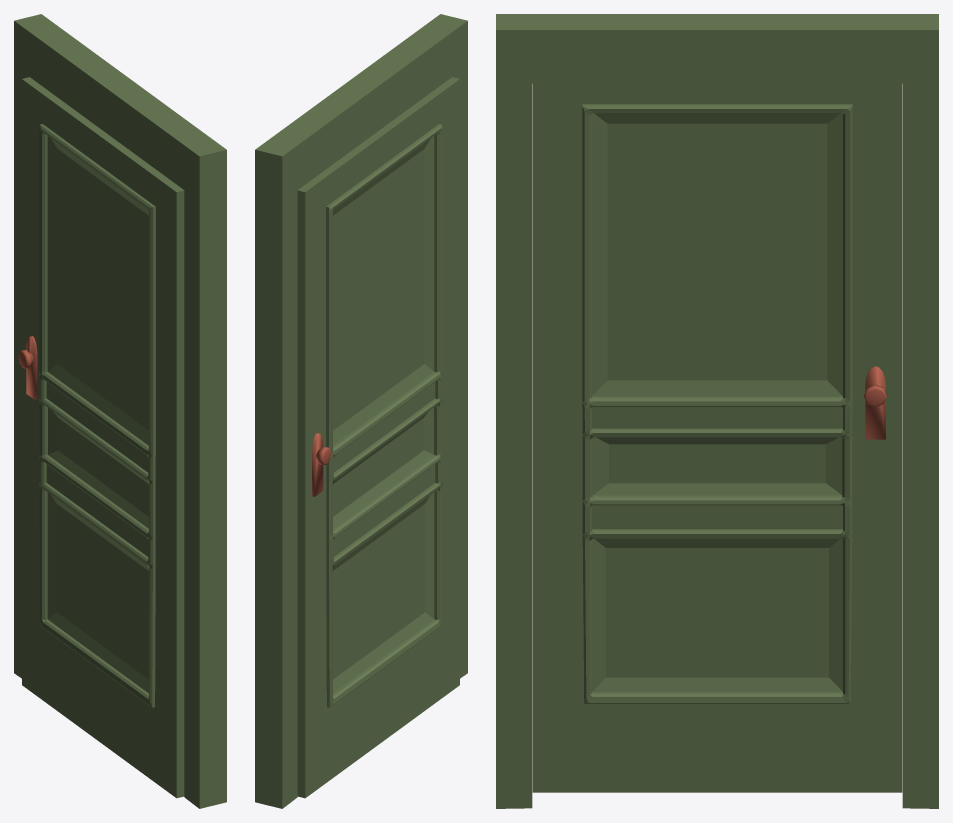
The model's file is vrata_zelena.fbx.
3 renders of one model, left to right at view 1: azimuth 30°, elevation 25°; view 2: azimuth 150°, elevation 25°; view 3: azimuth 270°, elevation 25°, orthographic. The views are drawn at different scales.
Parts seen in each view (by area): view 1: vrata, ŠTOk, Cube.002; view 2: vrata, ŠTOk, Cube.002; view 3: vrata, ŠTOk, Cube.002.
Boxes of the visible parts, x1,y1,x2,y2 form: vrata: (22, 77, 184, 798); ŠTOk: (14, 14, 226, 808); Cube.002: (18, 336, 37, 399); vrata: (297, 77, 459, 798); ŠTOk: (255, 14, 467, 808); Cube.002: (312, 433, 331, 496); vrata: (532, 83, 902, 792); ŠTOk: (496, 14, 938, 808); Cube.002: (864, 366, 886, 439).
Size of the model in its own units: 7.75 by 106 by 54.49.
